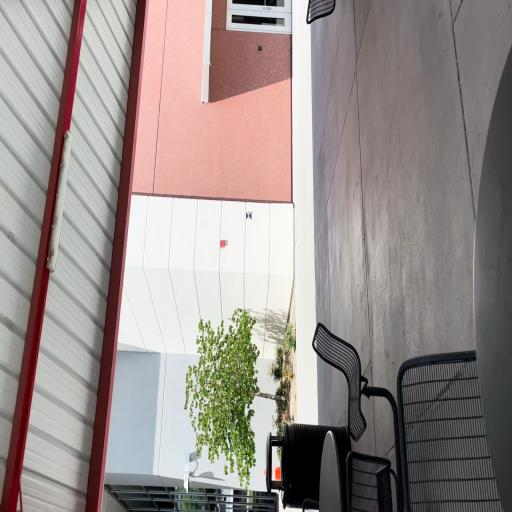target9: (246, 211, 252, 219)
